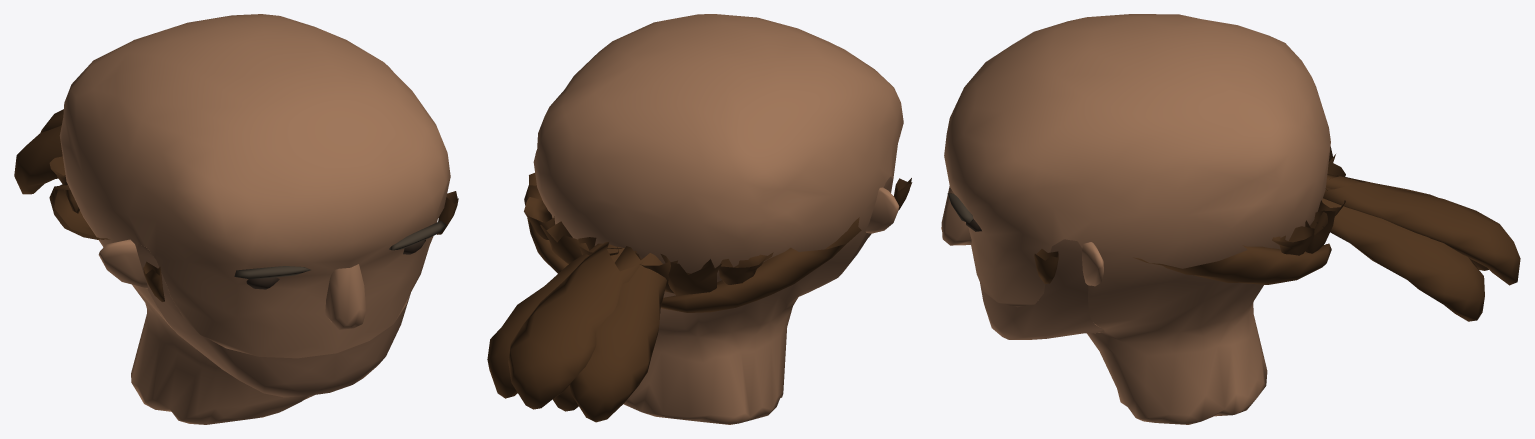
File: casual-man-head.glb
3 views of the same model, side by side, from view 1: azimuth 30°, elevation 25°; view 2: azimuth 150°, elevation 25°; view 3: azimuth 270°, elevation 25° (orthographic). The views are drawn at different scales.
Visible parts, largest first — view 1: Identity_casual-man; view 2: Identity_casual-man; view 3: Identity_casual-man.
Part boxes in pixels (x1=…): Identity_casual-man: x1=14, y1=14, x2=458, y2=424; Identity_casual-man: x1=487, y1=14, x2=912, y2=424; Identity_casual-man: x1=941, y1=14, x2=1520, y2=424.
Size of the model in its own units: 1 by 1 by 1.49.
